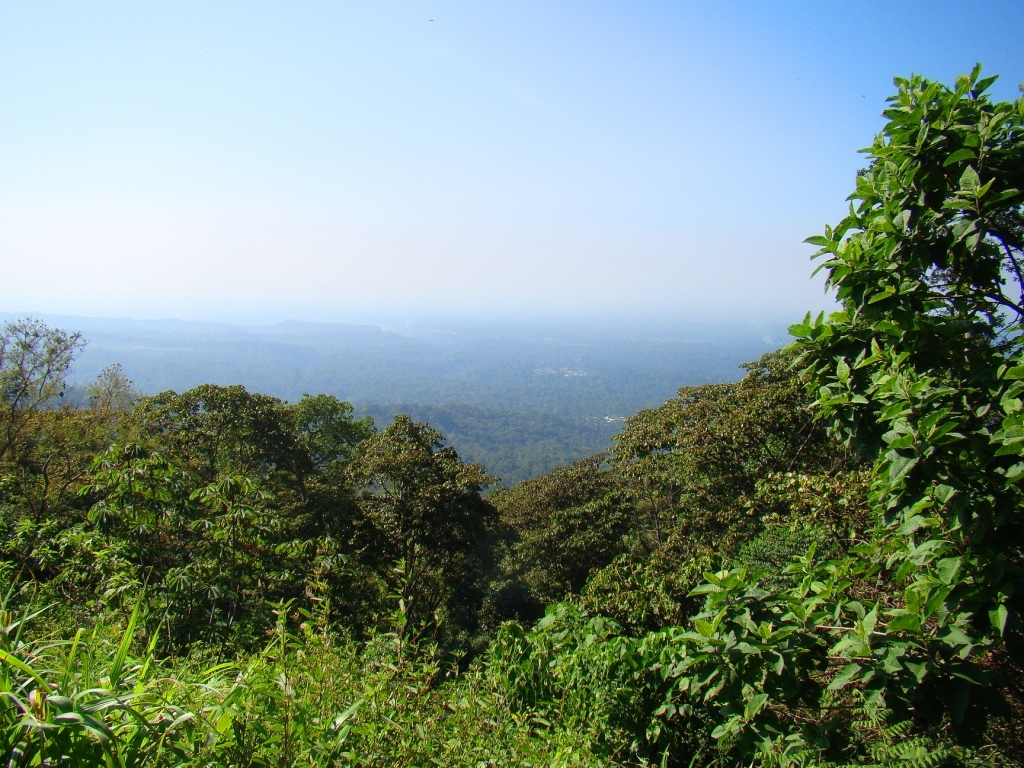Tree: (526, 73, 1022, 767), (0, 324, 536, 767)
